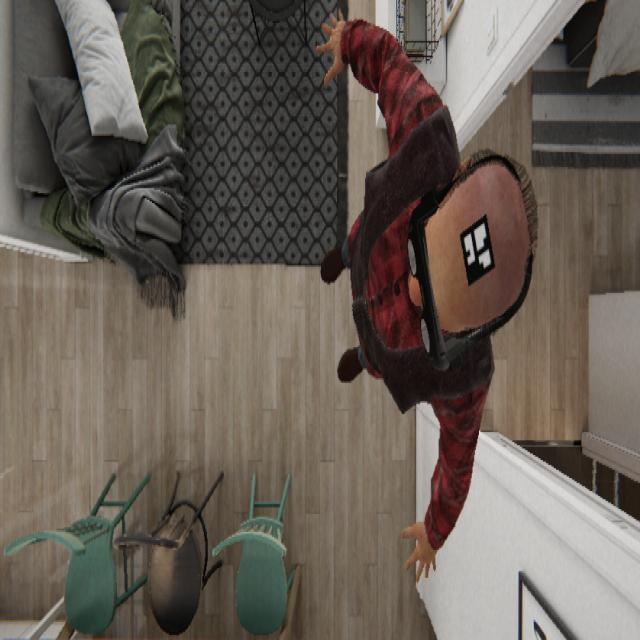AruCO: (458, 210, 496, 286)
Human: (314, 8, 538, 584)
